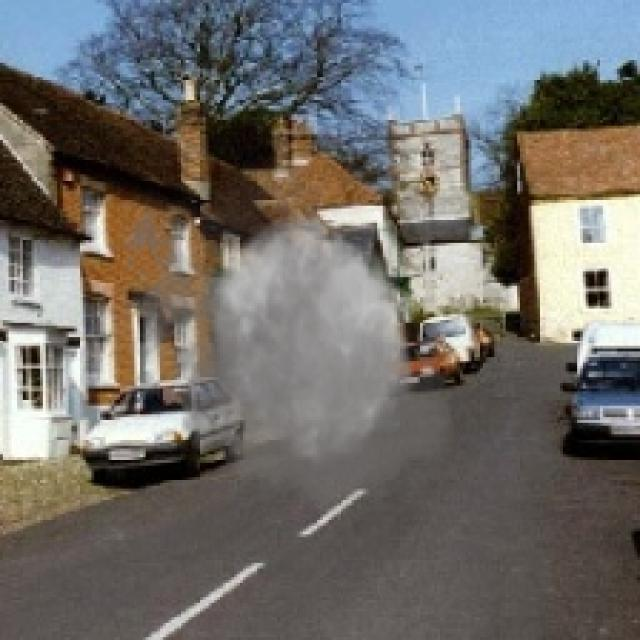smoke: (111, 146, 466, 531)
